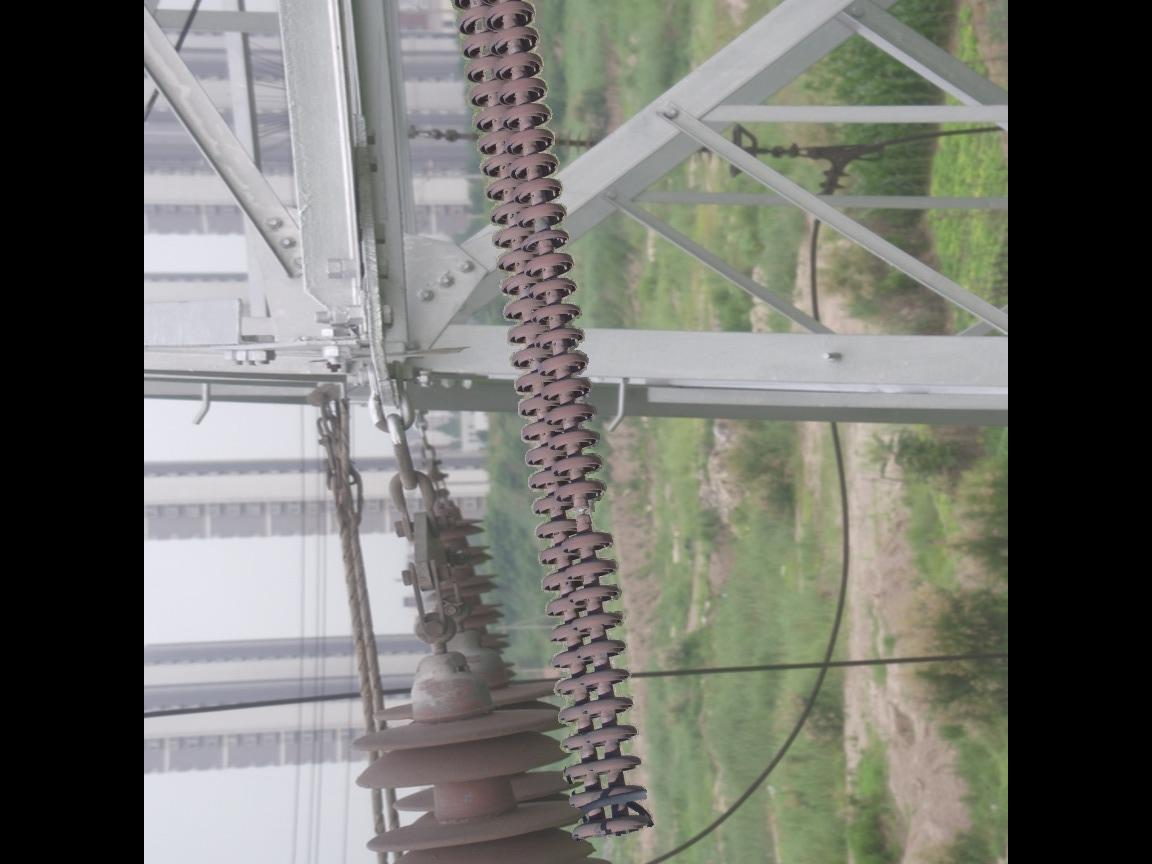insulator: (455, 1, 655, 849), (346, 669, 602, 864)
insulator_stringdrop: (551, 476, 618, 559)
